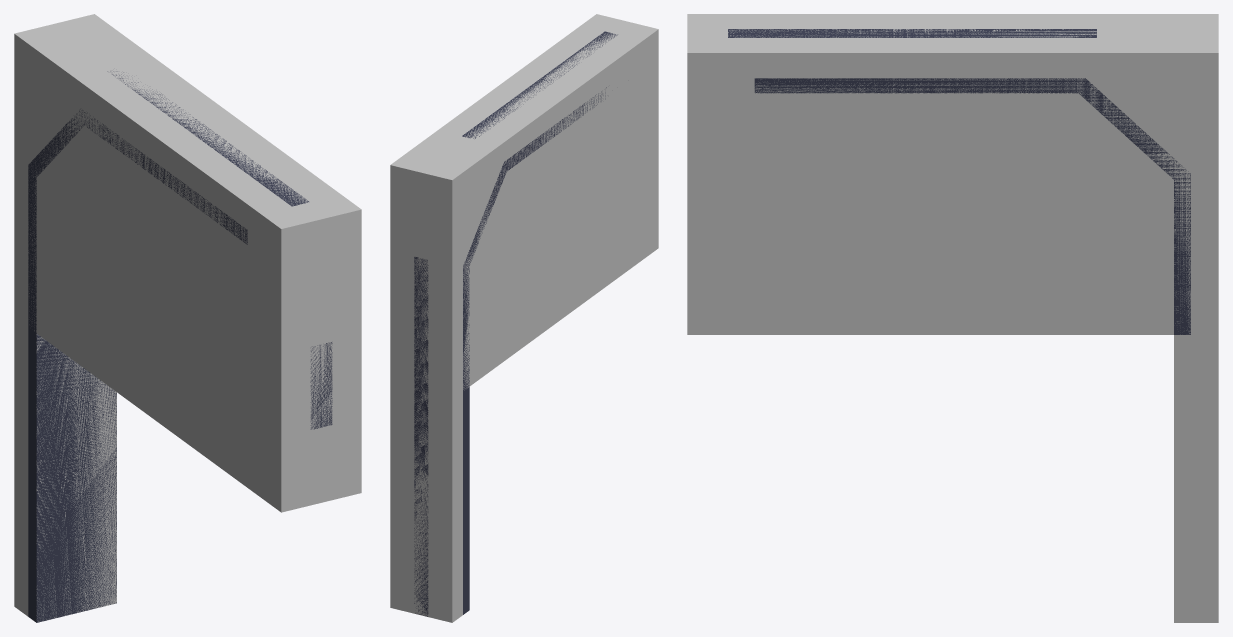
The model's file is SM_Metro_Entrance_Sign.fbx.
3 renders of one model, left to right at view 1: azimuth 30°, elevation 25°; view 2: azimuth 150°, elevation 25°; view 3: azimuth 270°, elevation 25°, orthographic. The views are drawn at different scales.
Visible parts, largest first — view 1: SM_Metro_Entrance_Sign_ConvexHulls, SM_Metro_Entrance_Sign; view 2: SM_Metro_Entrance_Sign_ConvexHulls, SM_Metro_Entrance_Sign; view 3: SM_Metro_Entrance_Sign_ConvexHulls, SM_Metro_Entrance_Sign.
Boxes of the visible parts, x1,y1,x2,y2 form: SM_Metro_Entrance_Sign_ConvexHulls: [14, 14, 361, 621]; SM_Metro_Entrance_Sign: [28, 71, 332, 622]; SM_Metro_Entrance_Sign_ConvexHulls: [390, 14, 658, 622]; SM_Metro_Entrance_Sign: [414, 31, 617, 616]; SM_Metro_Entrance_Sign_ConvexHulls: [687, 14, 1218, 622]; SM_Metro_Entrance_Sign: [728, 29, 1190, 334].
Bounding box in the file's own units: 86.78 × 499 × 591.
